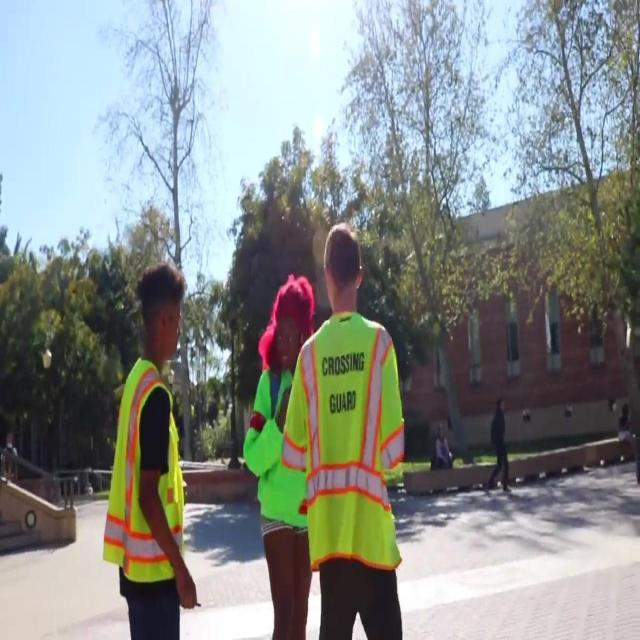Vest: (279, 313, 405, 571), (105, 354, 185, 581)
